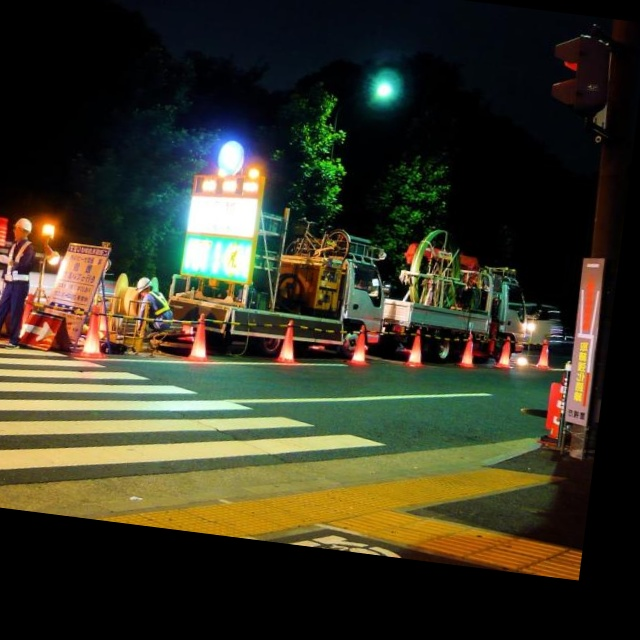Con_Casco: (12, 217, 34, 240)
Con_Chaleco: (1, 236, 39, 286), (141, 289, 173, 327)
